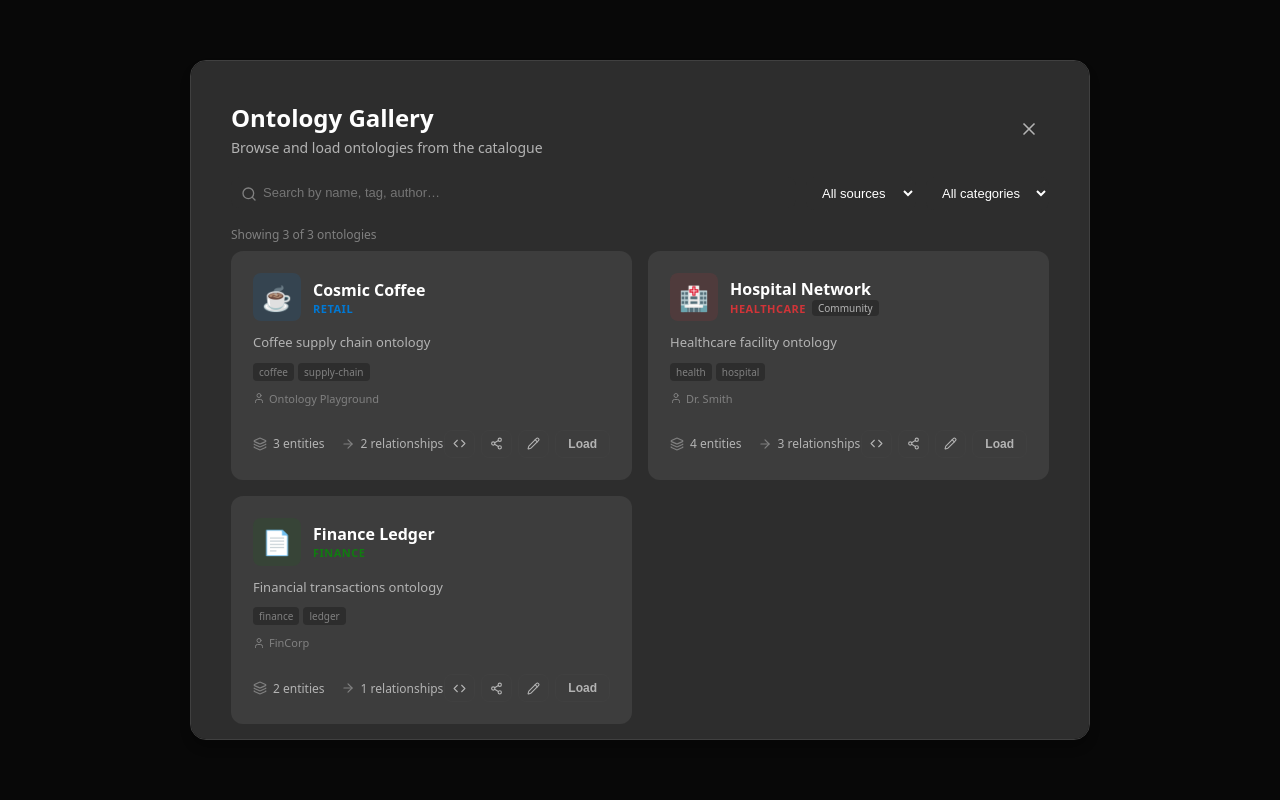
GalleryModal › filters by category
This screenshot has width=1280, height=800.
Expected: the text "Cosmic Coffee" is shown, [313, 278, 425, 300]
// Select healthcare category
Select "Healthcare" in the 2nd dropdown showing "All categories" at coordinates (988, 194), box [926, 177, 1049, 210]
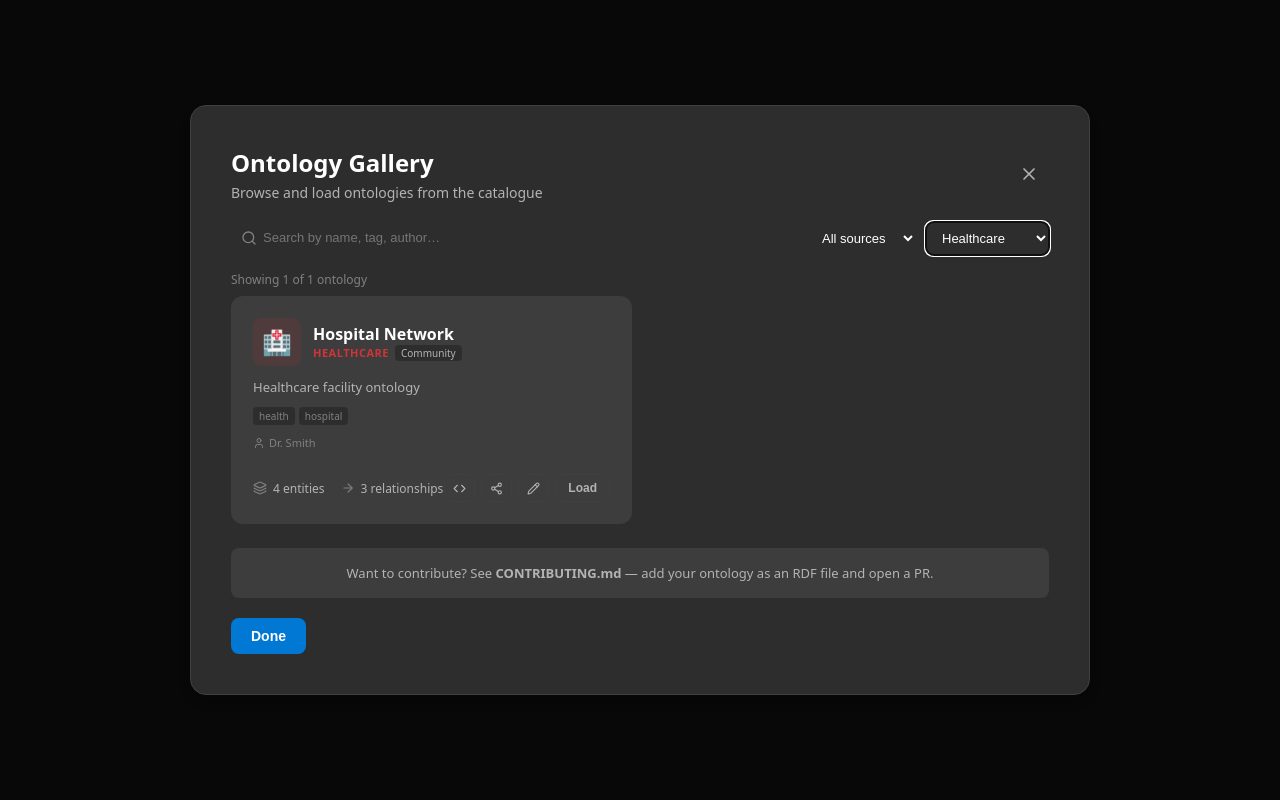
Expected: the text "Hospital Network" is shown, [313, 323, 462, 345]
Expected: the text "Cosmic Coffee" is gone
Expected: the text "Finance Ledger" is gone
